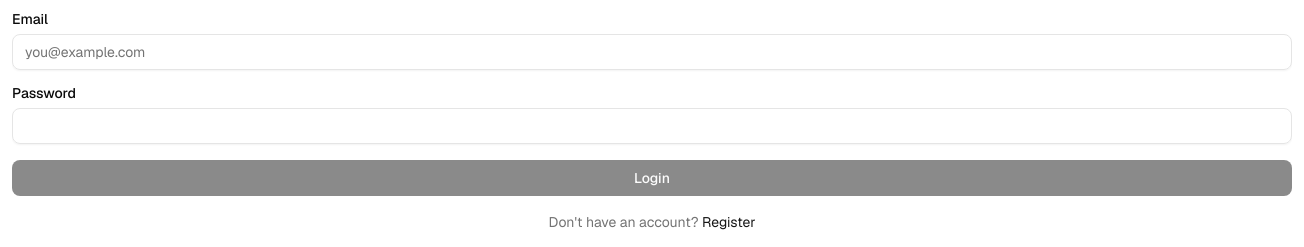
it: LoginForm › should enable submit button when form is valid
Type "test@example.com" into the field labelled "Email" at (652, 52), box 12,34 -> 1292,70
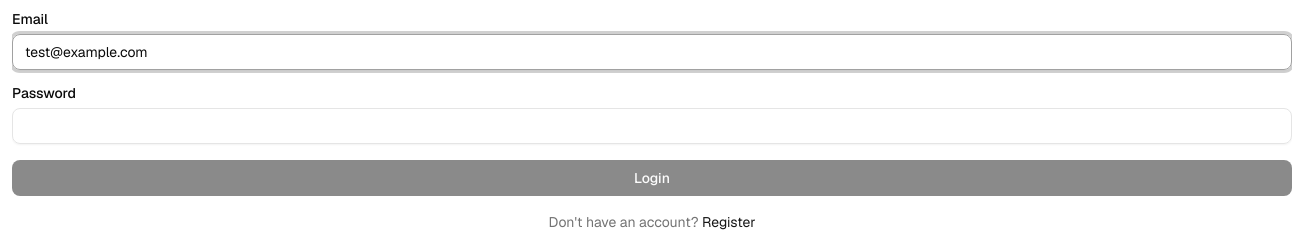
Type "password123" into the password field labelled "Password" at (652, 126), box 12,108 -> 1292,144
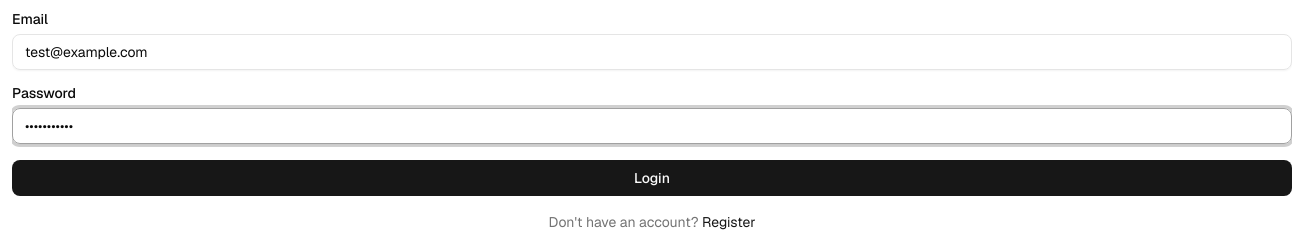
expect the button "Login" is enabled: met, box 12,160 -> 1292,196
